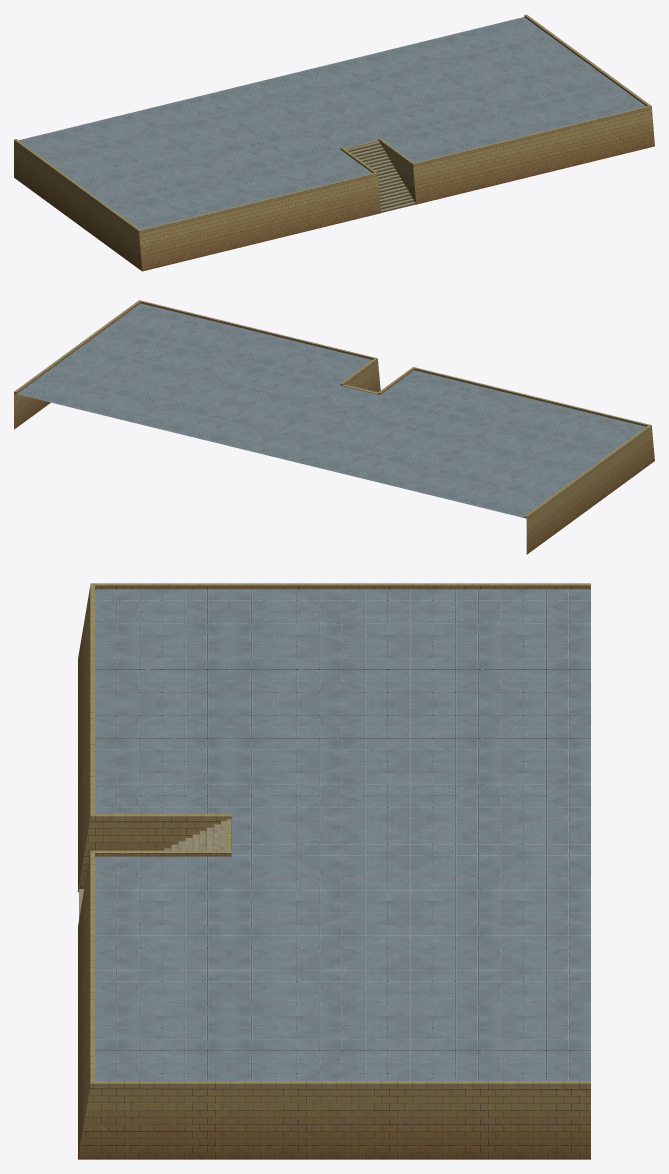
The model's file is Bleach_LingYuan_GaoTai005_cpoff.FBX.
The picture shows the model from 3 angles, top to bottom: view 1: azimuth 30°, elevation 25°; view 2: azimuth 150°, elevation 25°; view 3: azimuth 270°, elevation 25°; orthographic projection. The views are drawn at different scales.
Parts seen in each view (by area): view 1: Bleach_LingYuan_GaoTai005; view 2: Bleach_LingYuan_GaoTai005; view 3: Bleach_LingYuan_GaoTai005.
Boxes of the visible parts, x1,y1,x2,y2 form: Bleach_LingYuan_GaoTai005: (14,14,654,271); Bleach_LingYuan_GaoTai005: (14,300,654,554); Bleach_LingYuan_GaoTai005: (78,583,590,1159).
Bounding box in the file's own units: 74.75 × 5.31 × 32.39.
